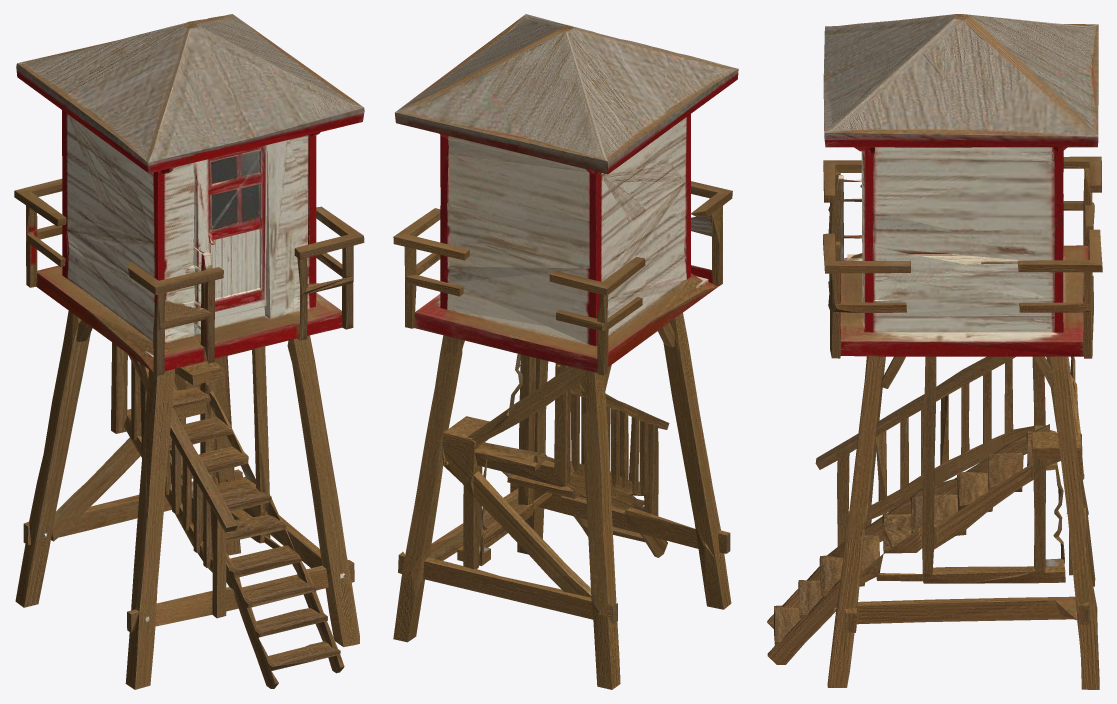
Rendered from lifeguard_tower.glb.
The picture shows the model from 3 angles, left to right: view 1: azimuth 30°, elevation 25°; view 2: azimuth 150°, elevation 25°; view 3: azimuth 270°, elevation 25°; orthographic projection. The views are drawn at different scales.
Parts seen in each view (by area): view 1: lifeguard_tower; view 2: lifeguard_tower; view 3: lifeguard_tower.
Boxes of the visible parts, left/top/right/bottom form: lifeguard_tower: left=14, top=14, right=364, bottom=689; lifeguard_tower: left=393, top=14, right=738, bottom=689; lifeguard_tower: left=767, top=14, right=1102, bottom=689.
Bounding box in the file's own units: 1.87 × 4.8 × 2.36.
1 material, 1 textured.
